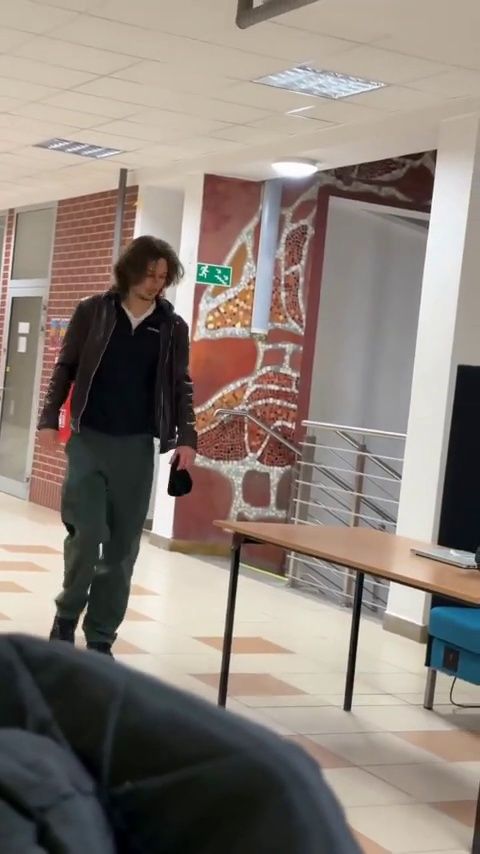no vest: (42, 235, 204, 658)
